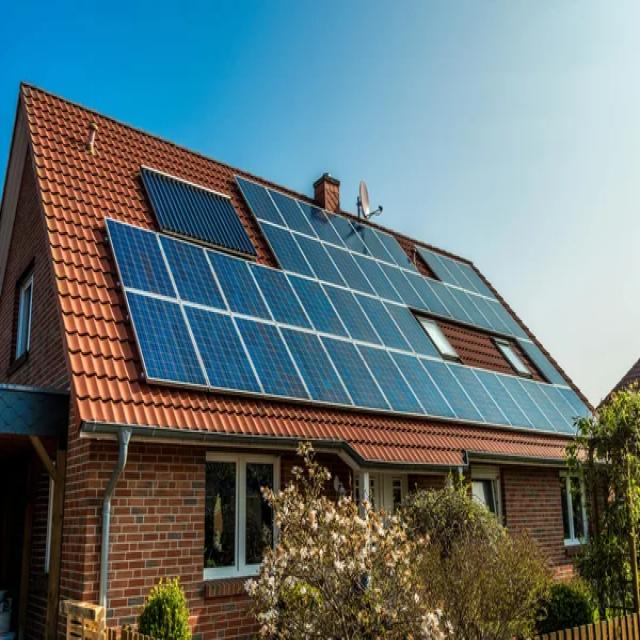clean-solar-panel: (105, 174, 594, 431)
